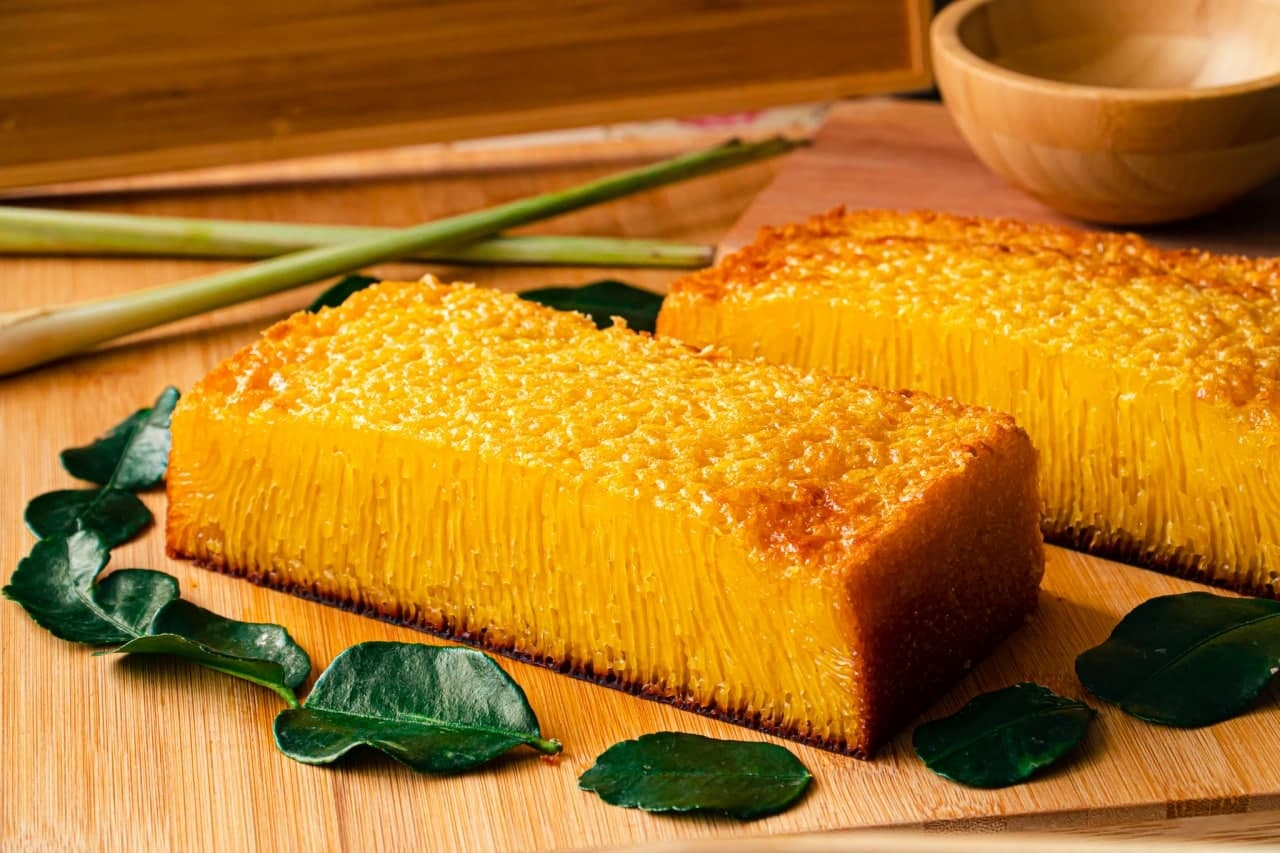bika_ambon: (433, 447, 897, 749)
